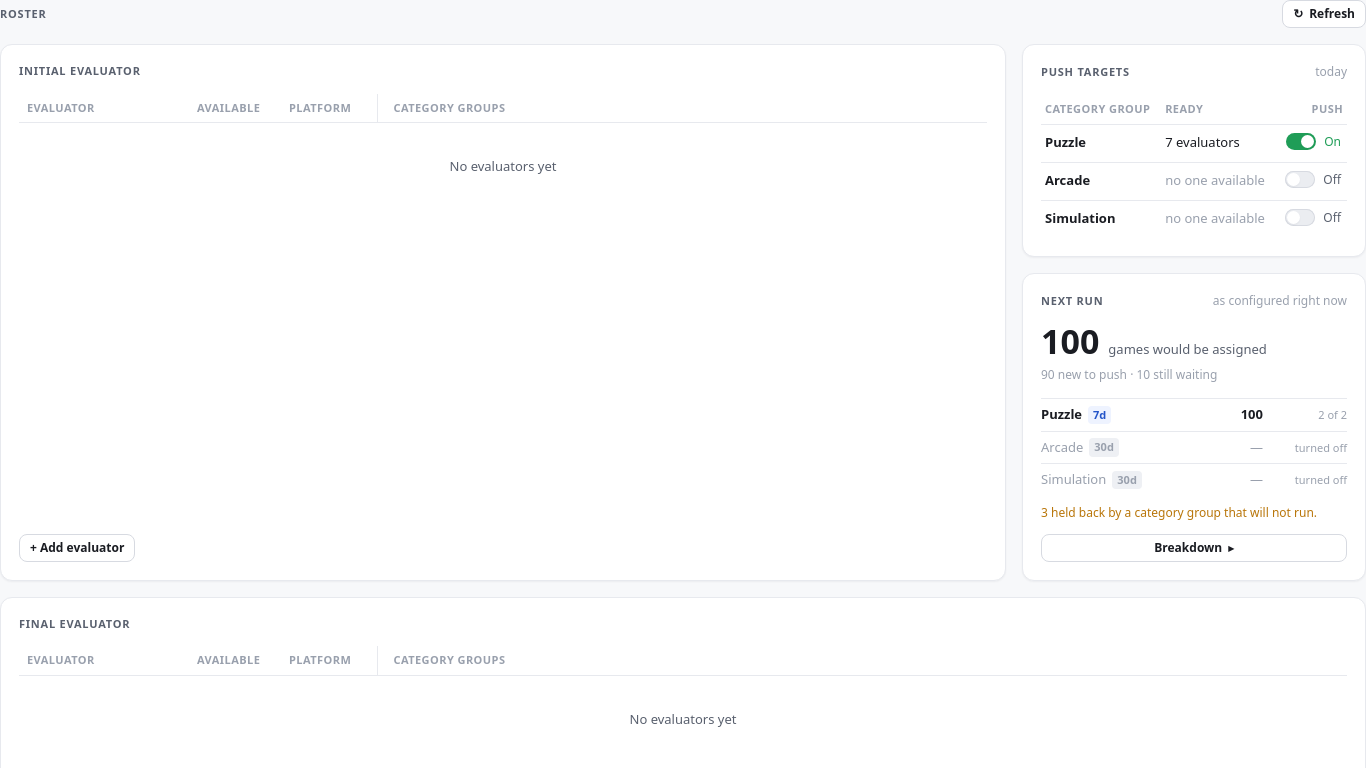
Test: AssignSetup next-run panel › Escape closes the modal, but backs out of the confirmation first
Step 1. Click the button "Breakdown ▸" → click(1194, 548), box [1041,534,1347,562]
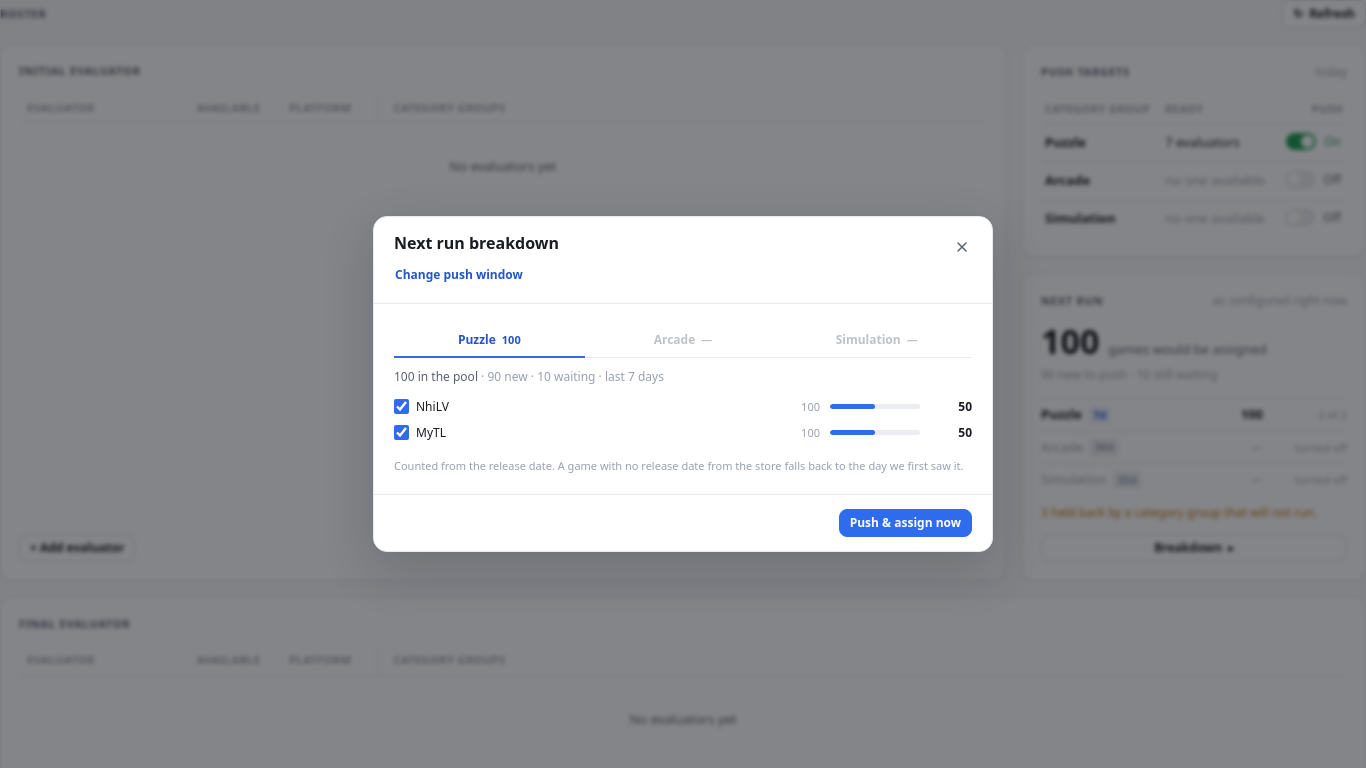
Step 2. Click the button "Push & assign now" → click(905, 523), box [839,509,972,537]
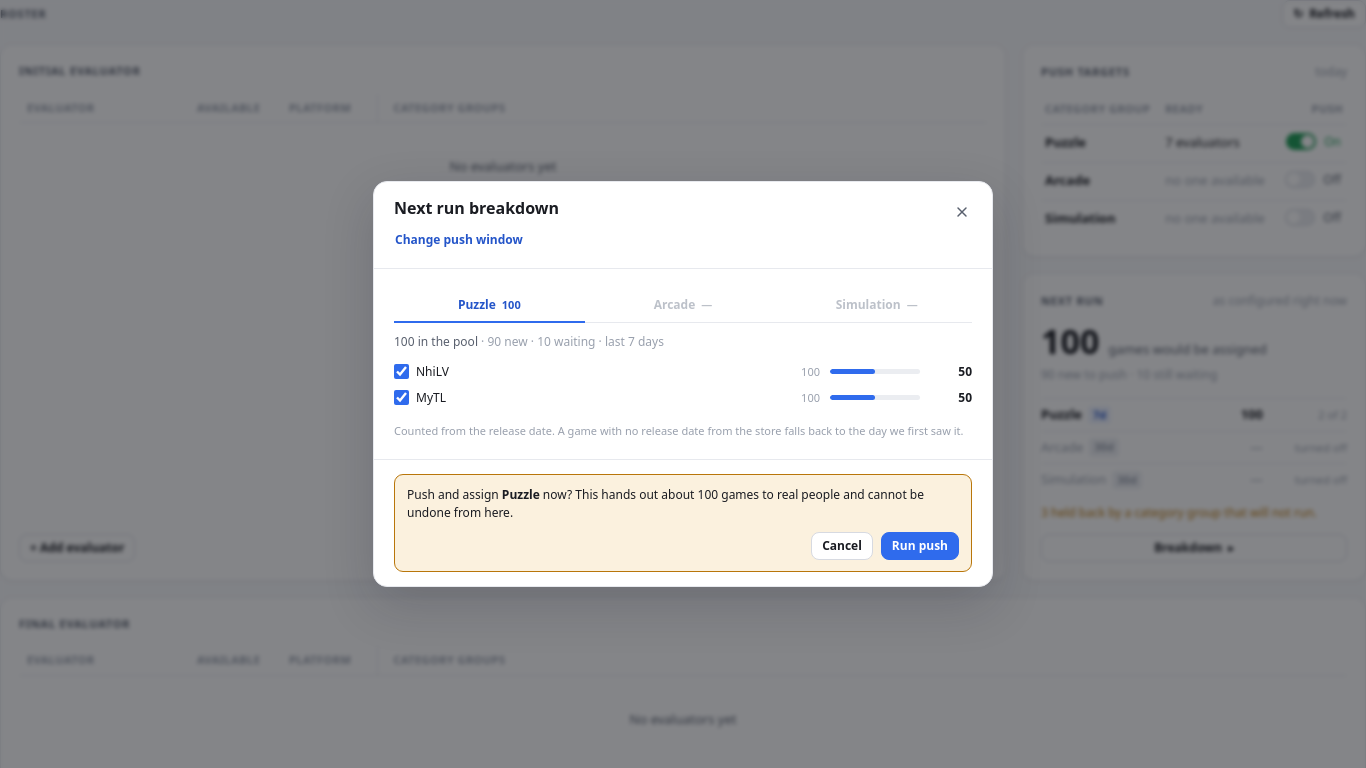
Step 3. Press Escape
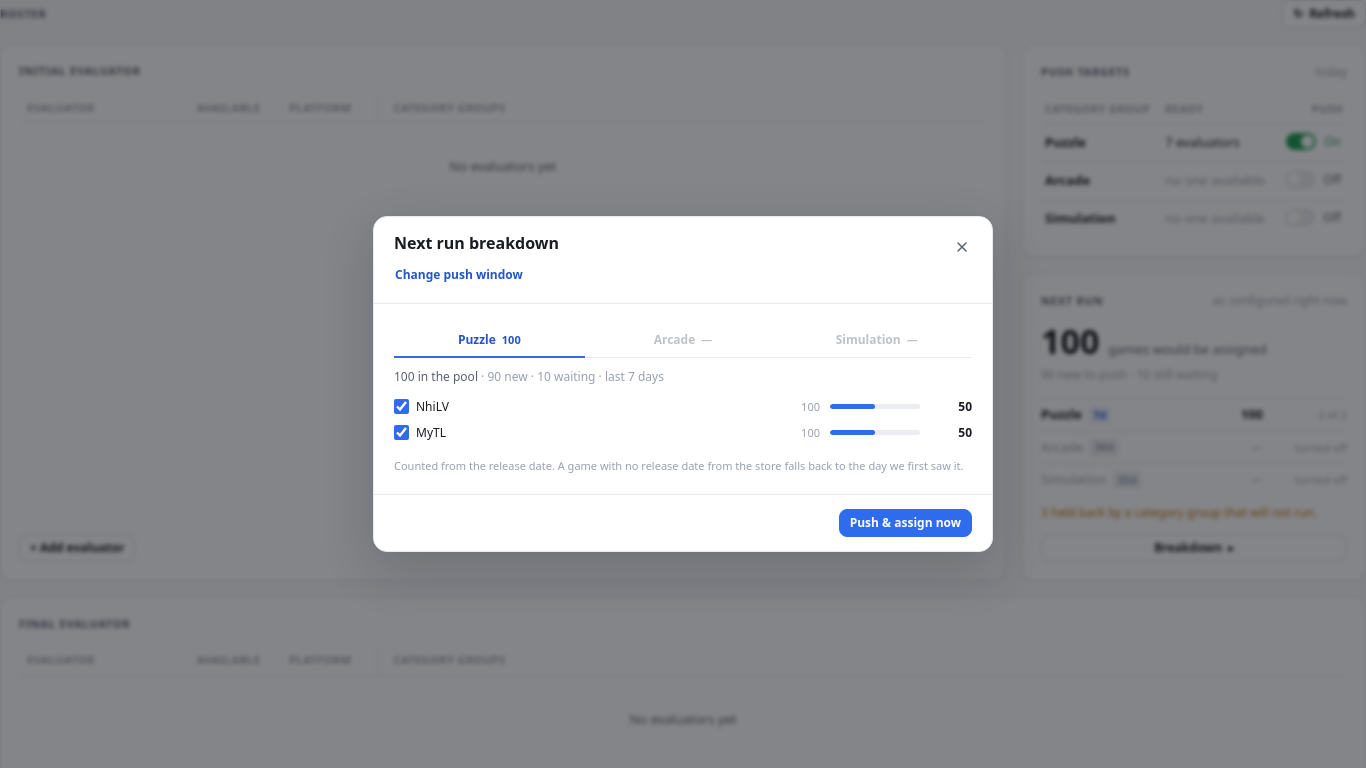
Expected: the dialog "Next run breakdown" is shown, [373,216,993,552]
Step 4. Press Escape
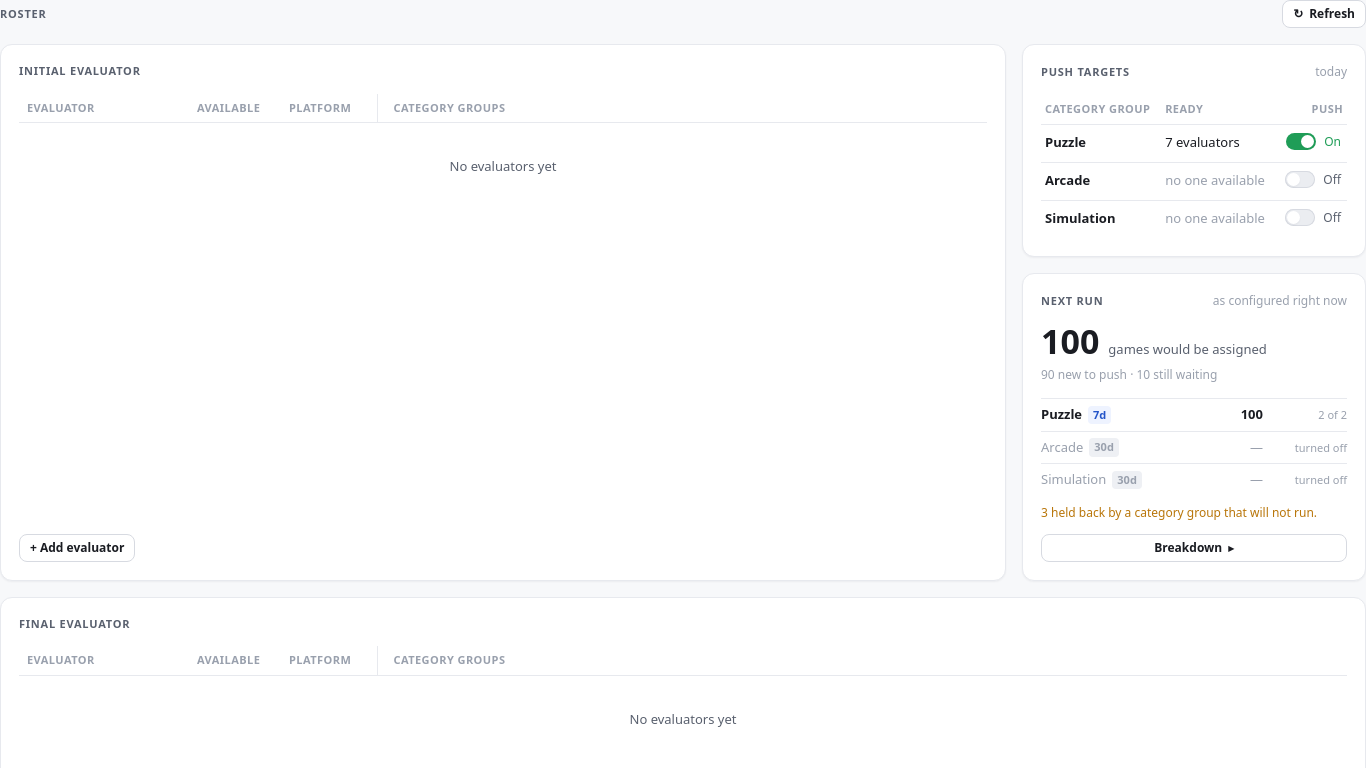
Expected: the text "Next run breakdown" is gone
